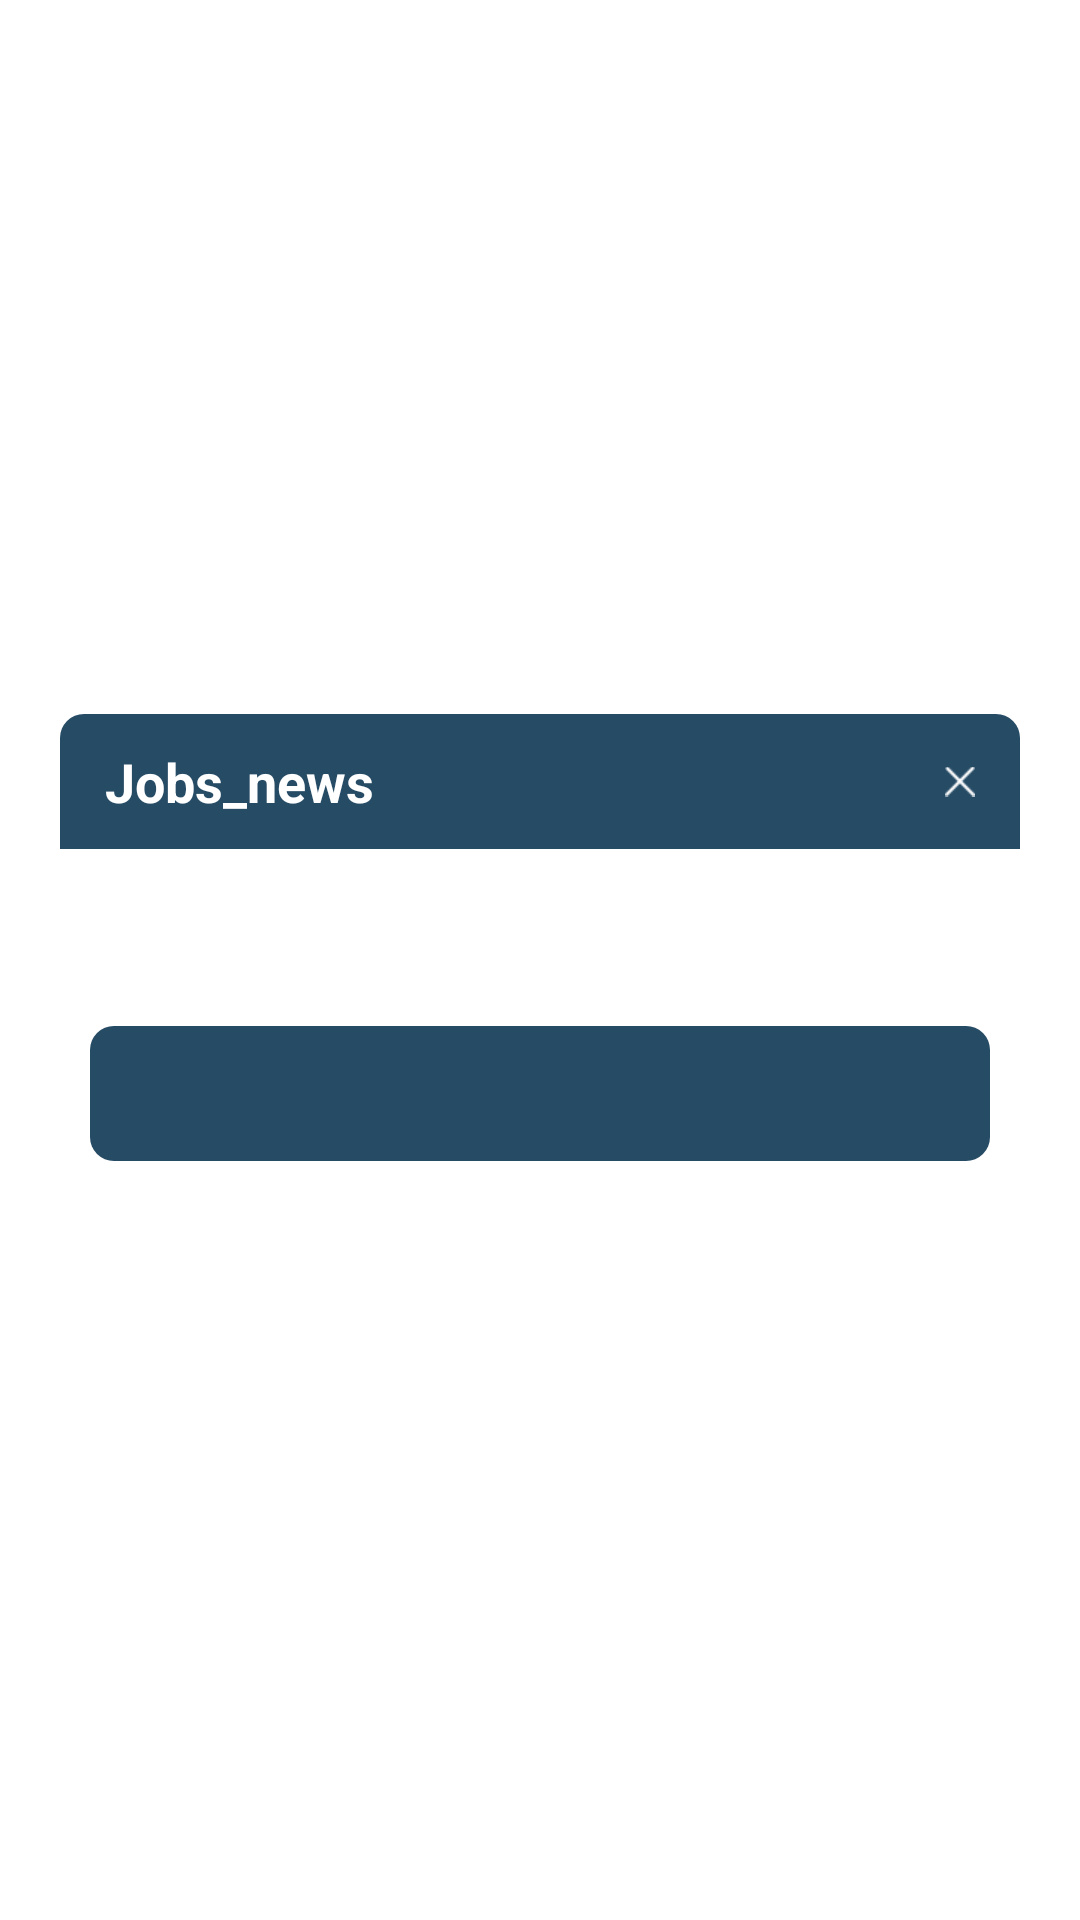

Screen size 1080px x 1920px. Icon name, then its center in pixels as (x=x, y=y):
close: (x=960, y=782)
